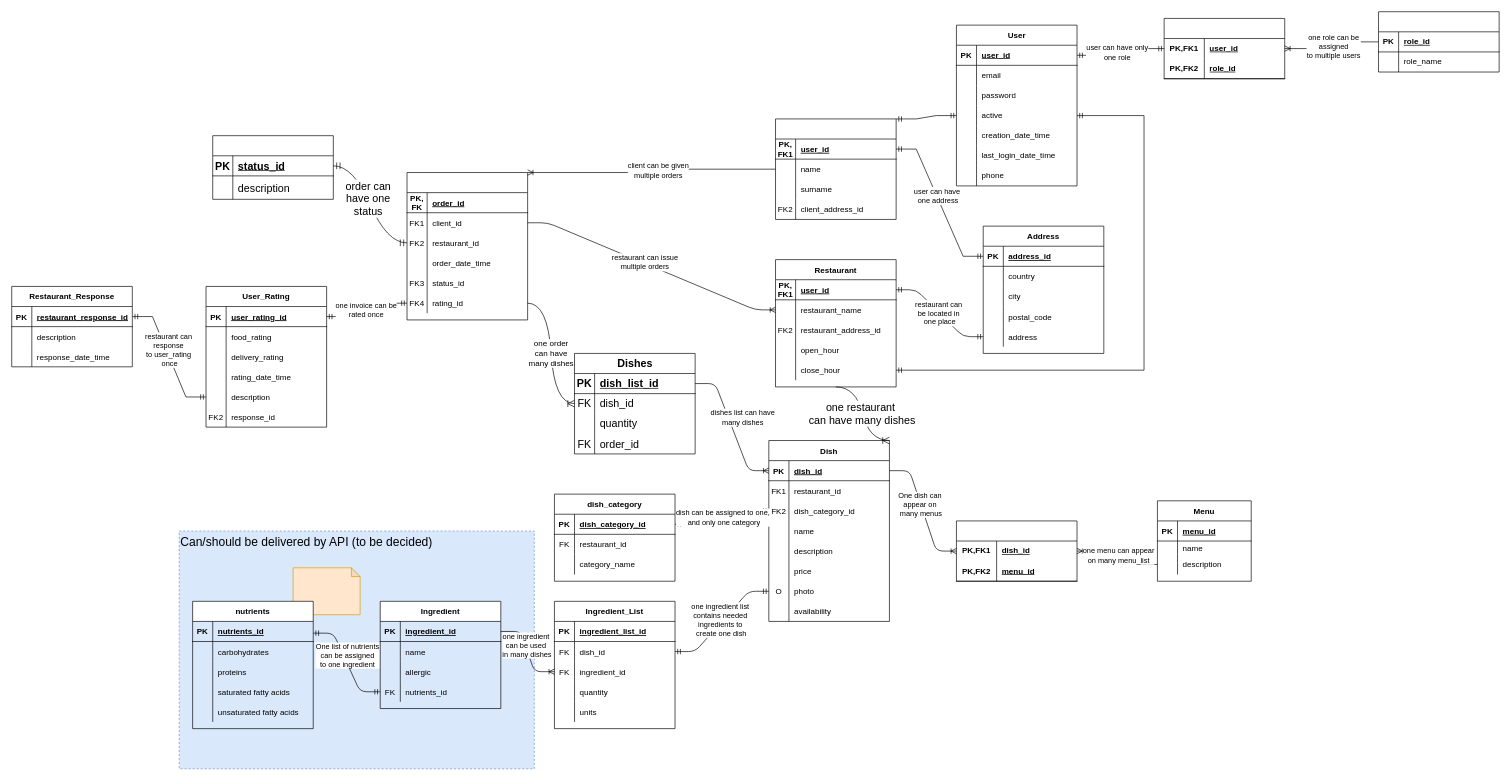
This 1511x781 diagram has some shape labels left out. The box of each missing label's shape, as (x1, y1, x2, y2) in pixels:
Comment: Default value for nutrients should be 0: (292, 567, 360, 615)
menu_list: (956, 520, 1077, 581)
Roles: (1378, 11, 1499, 72)
Status_list: (212, 135, 333, 199)
Supper_Client: (775, 118, 896, 219)
Supper_Order: (406, 172, 528, 320)
user_role: (1163, 18, 1285, 79)
